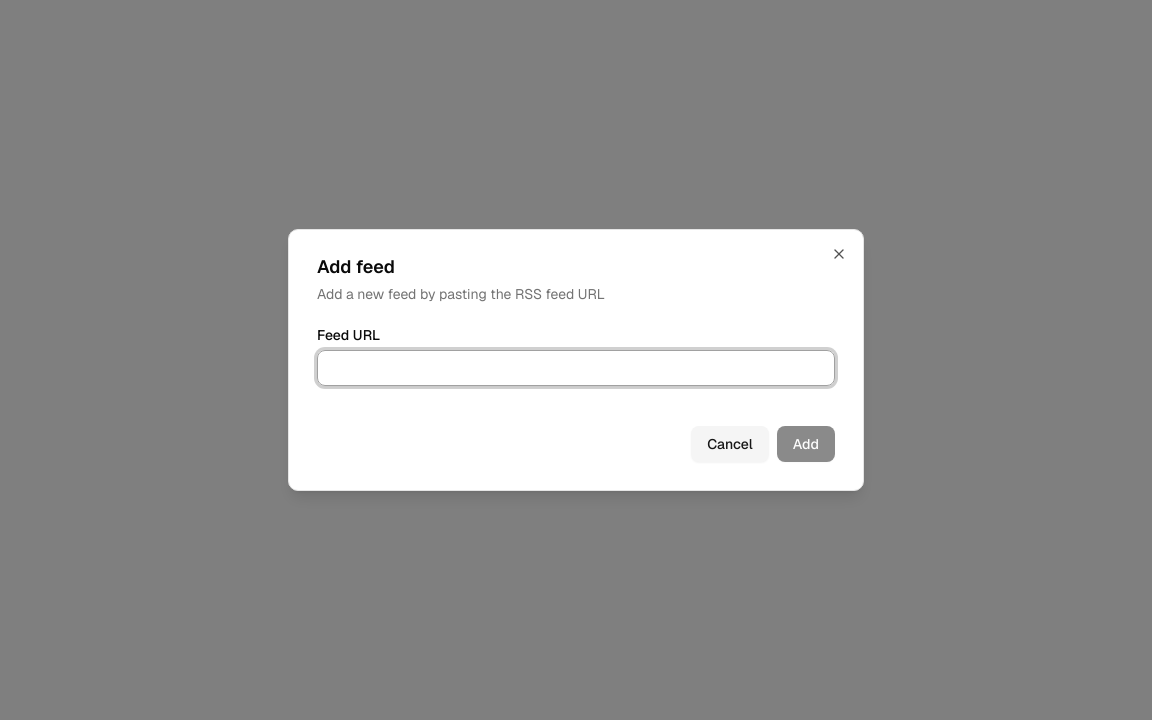
CreateFeedDialog › Should display error message when name is invalid
The image size is (1152, 720).
Type "https://www.nasa.gov/rss/dyn/breaking_news.rss" into the field labelled "Feed URL" at (576, 368), box [317, 350, 835, 386]
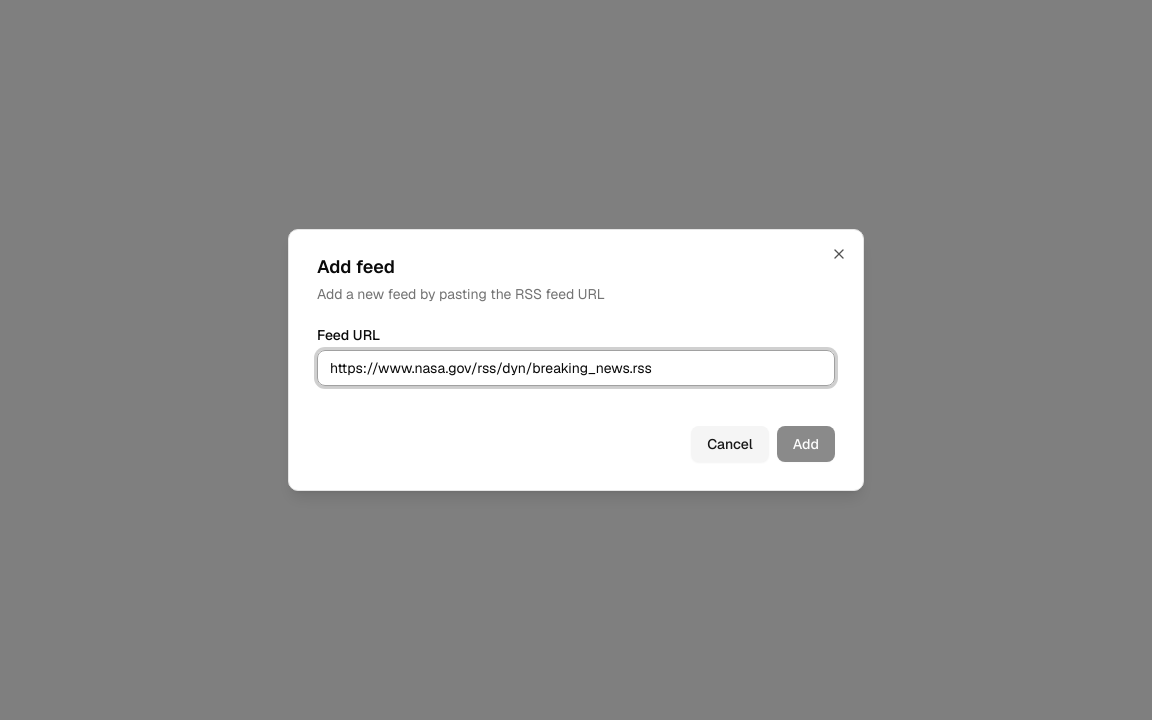
Clear the field labelled "Feed URL" at (576, 368), box [317, 350, 835, 386]
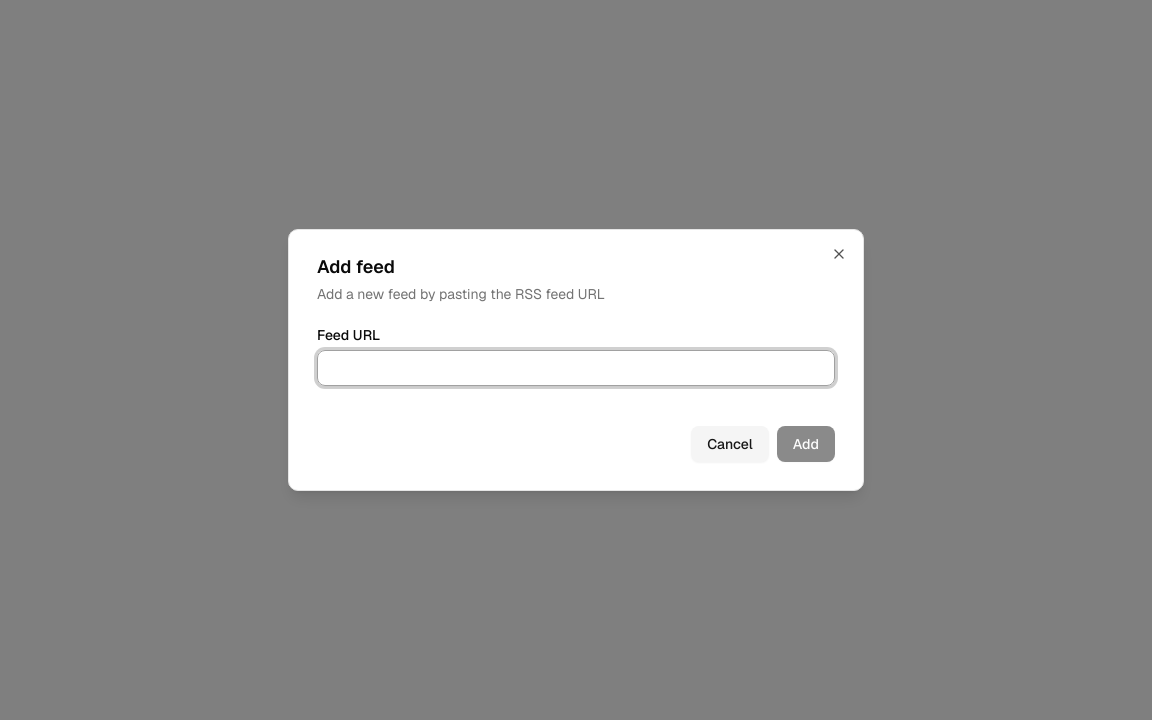
Leave the field labelled "Feed URL", box [317, 350, 835, 386]
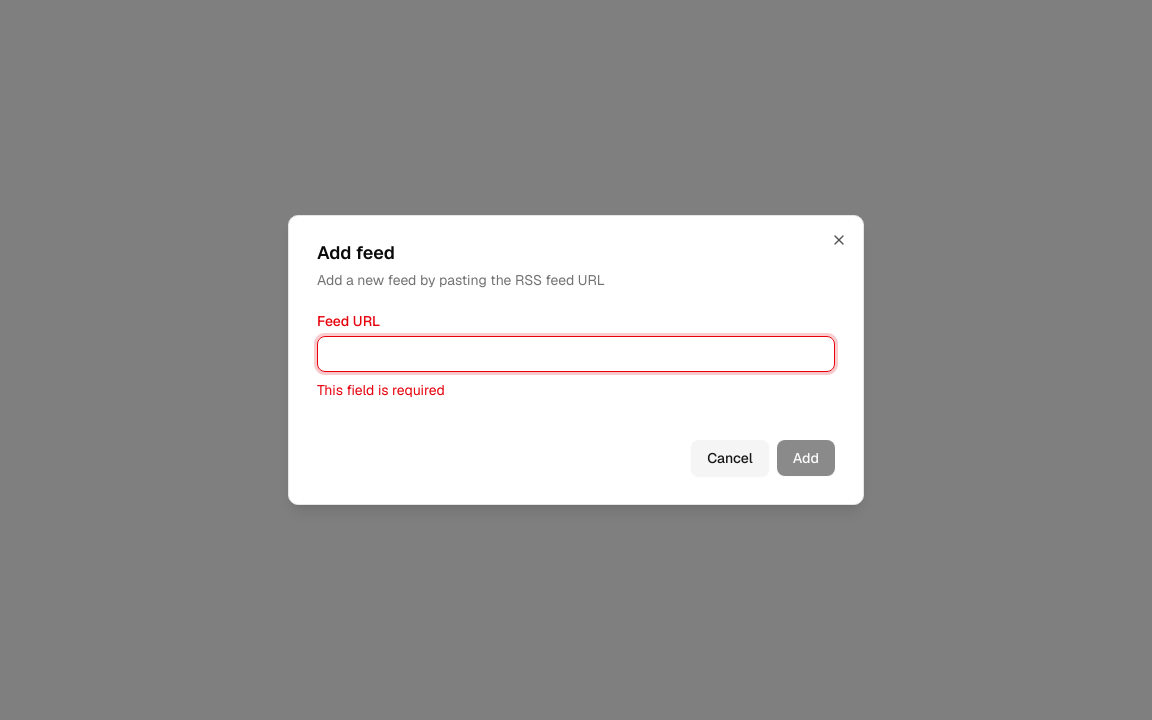
Now the text "This field is required" is shown, box [317, 381, 445, 399]
